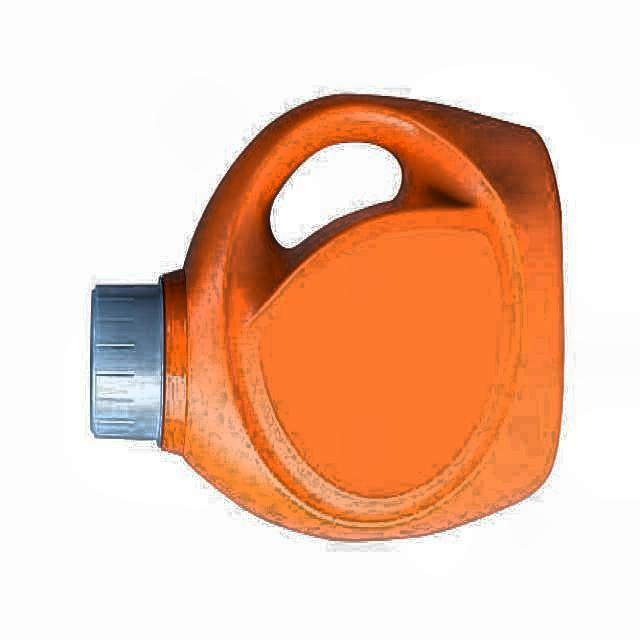plastic: (91, 95, 564, 539)
